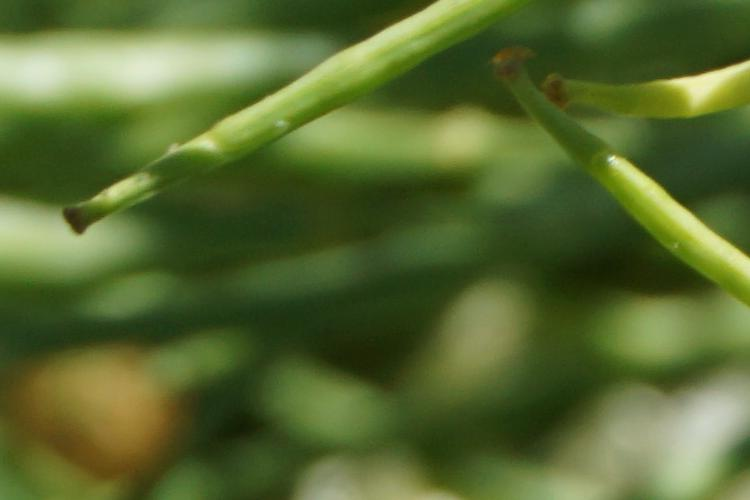pod: (488, 52, 750, 280), (34, 61, 342, 240), (567, 52, 750, 139)
